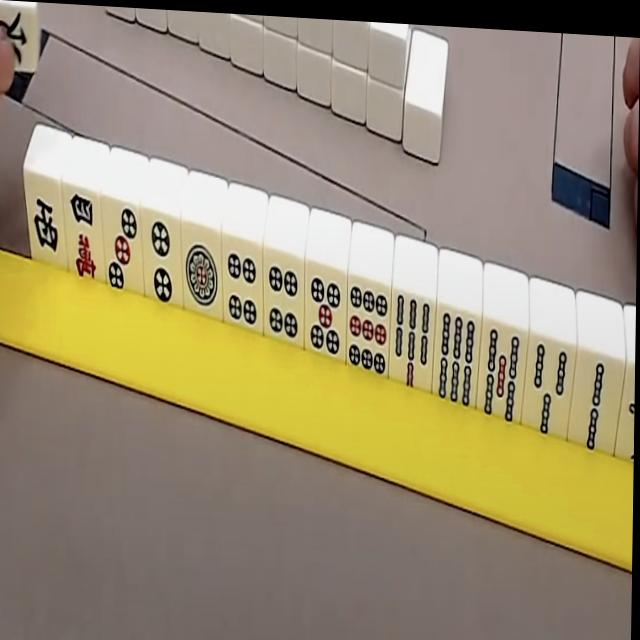m4: (64, 188, 103, 281)
s2: (567, 354, 622, 454)
s3: (519, 338, 572, 439)
s5: (477, 327, 526, 425)
s6: (431, 307, 480, 409)
s7: (389, 293, 435, 391)
t1: (181, 226, 222, 317)
t2: (138, 211, 180, 307)
t3: (103, 201, 143, 294)
t4: (221, 241, 264, 331), (261, 253, 302, 345)
t5: (303, 266, 344, 359)
t9: (343, 280, 389, 378)
west: (25, 178, 63, 266)
